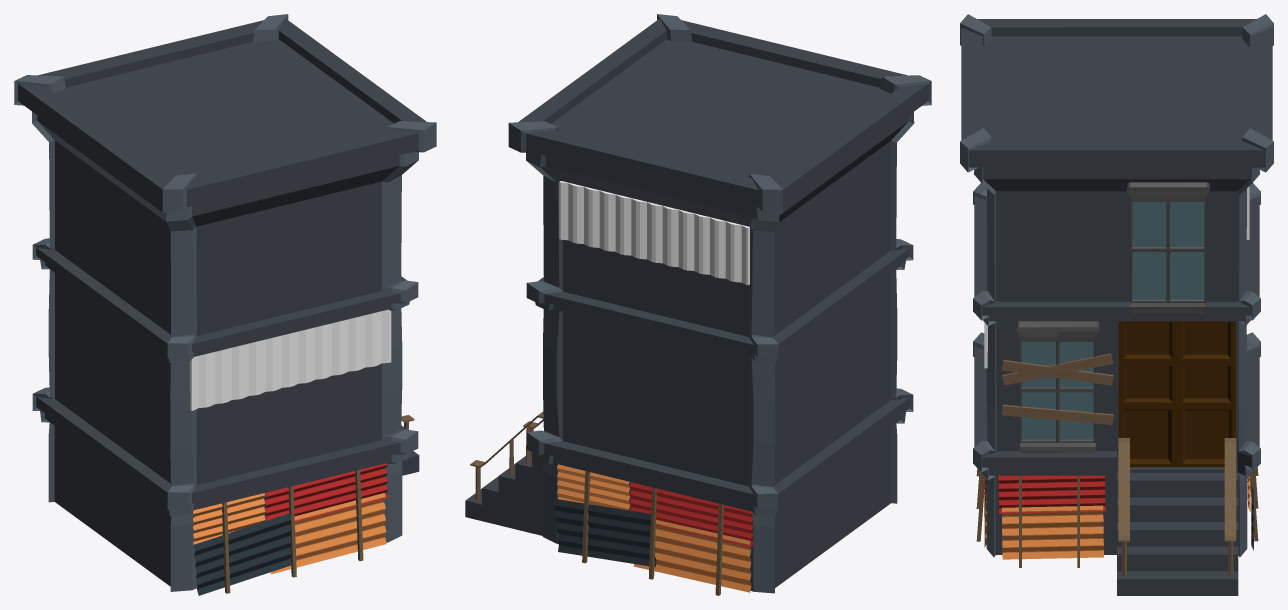
Rendered from SlumBuildings.fbx_2StorySlum.fbx.
The picture shows the model from 3 angles, left to right: view 1: azimuth 30°, elevation 25°; view 2: azimuth 150°, elevation 25°; view 3: azimuth 270°, elevation 25°; orthographic projection.
Parts seen in each view (by area): view 1: Cube.005; view 2: Cube.005; view 3: Cube.005.
Boxes of the visible parts, box(x1,y1,x2,y2) form: Cube.005: box(14, 14, 436, 595); Cube.005: box(465, 14, 931, 595); Cube.005: box(960, 14, 1273, 595).
Size of the model in its own units: 1624 by 1987 by 2438.
